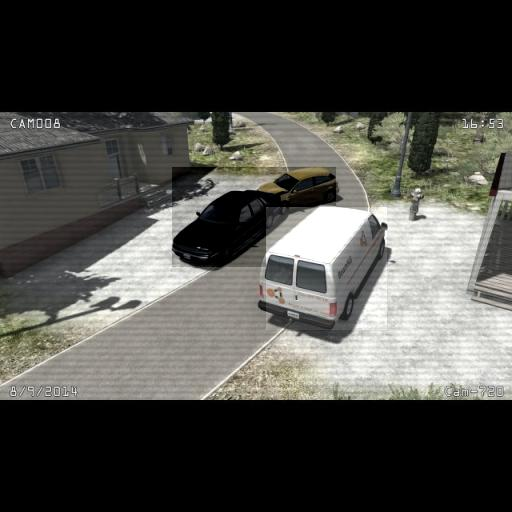小汽车: (266, 207, 387, 330)
小汽车撞小汽车: (172, 168, 336, 268)
